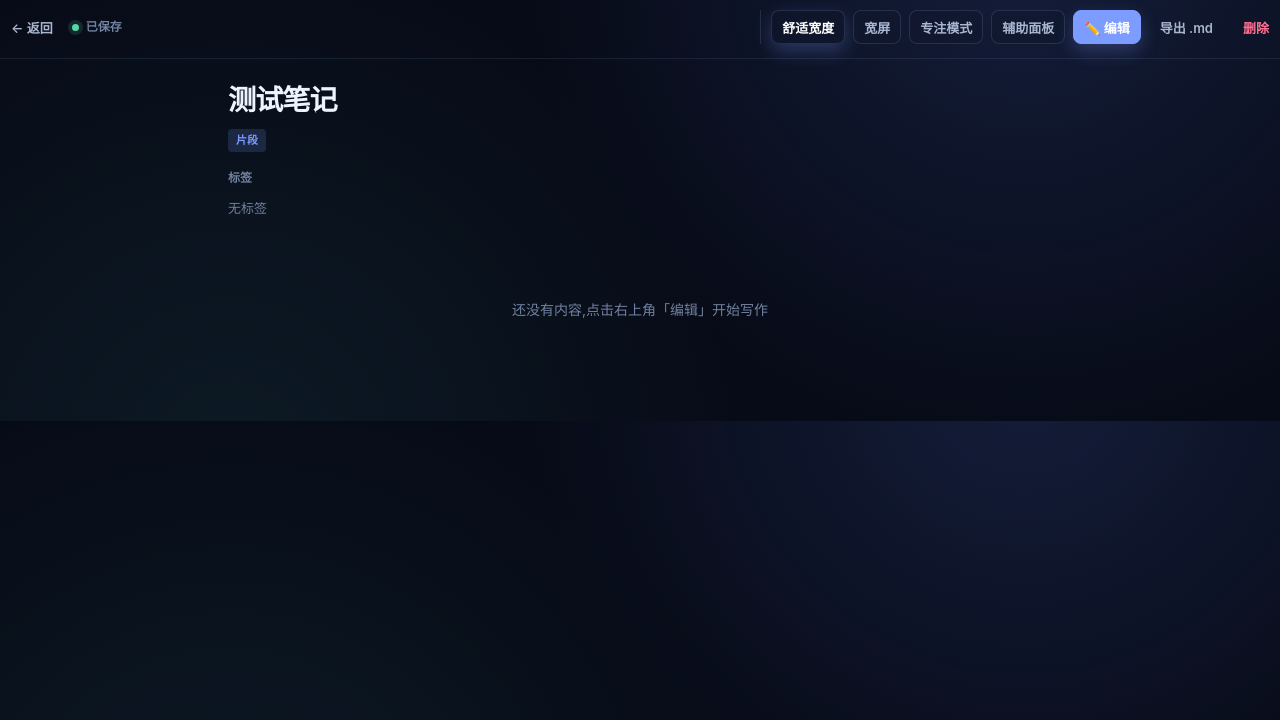
Test: EditorPage draft render boundary › resolves preview wiki links from the allNotes index without Dexie table reads
Click the button "辅助面板". click: [1028, 27]
box: [991, 10, 1065, 44]
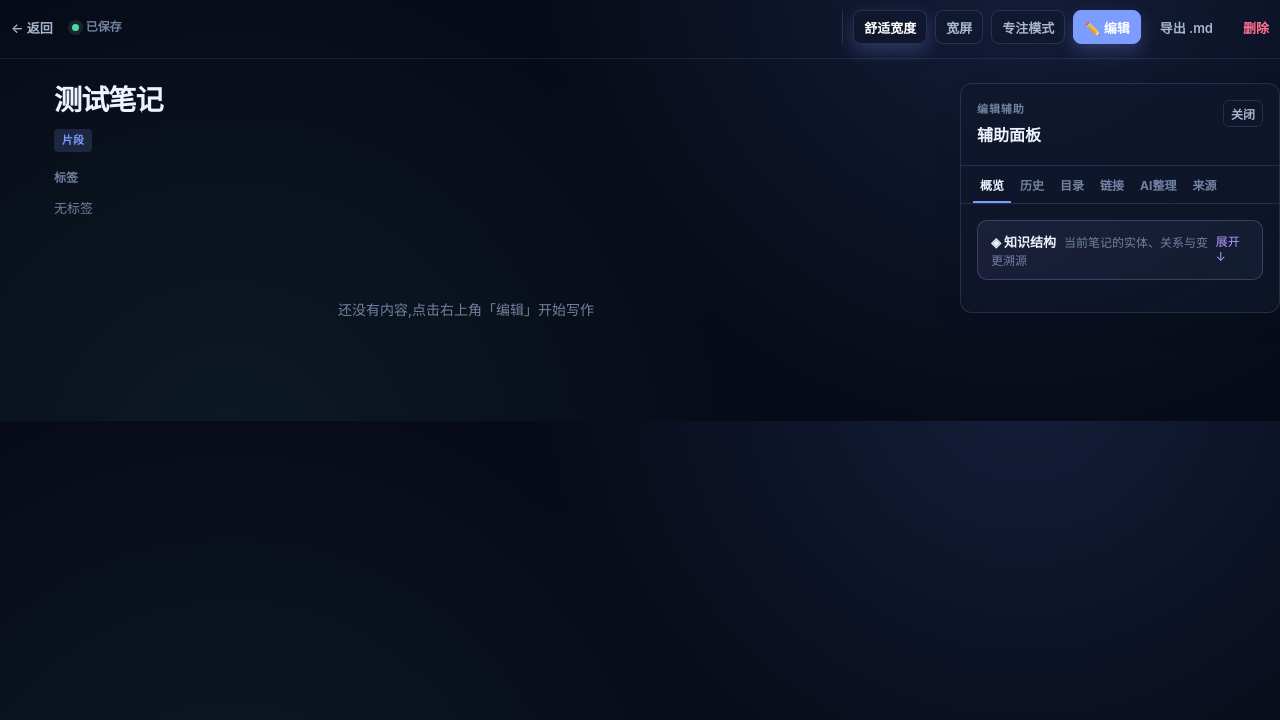
Click the tab "链接". click: [1112, 184]
box: [1093, 166, 1131, 203]
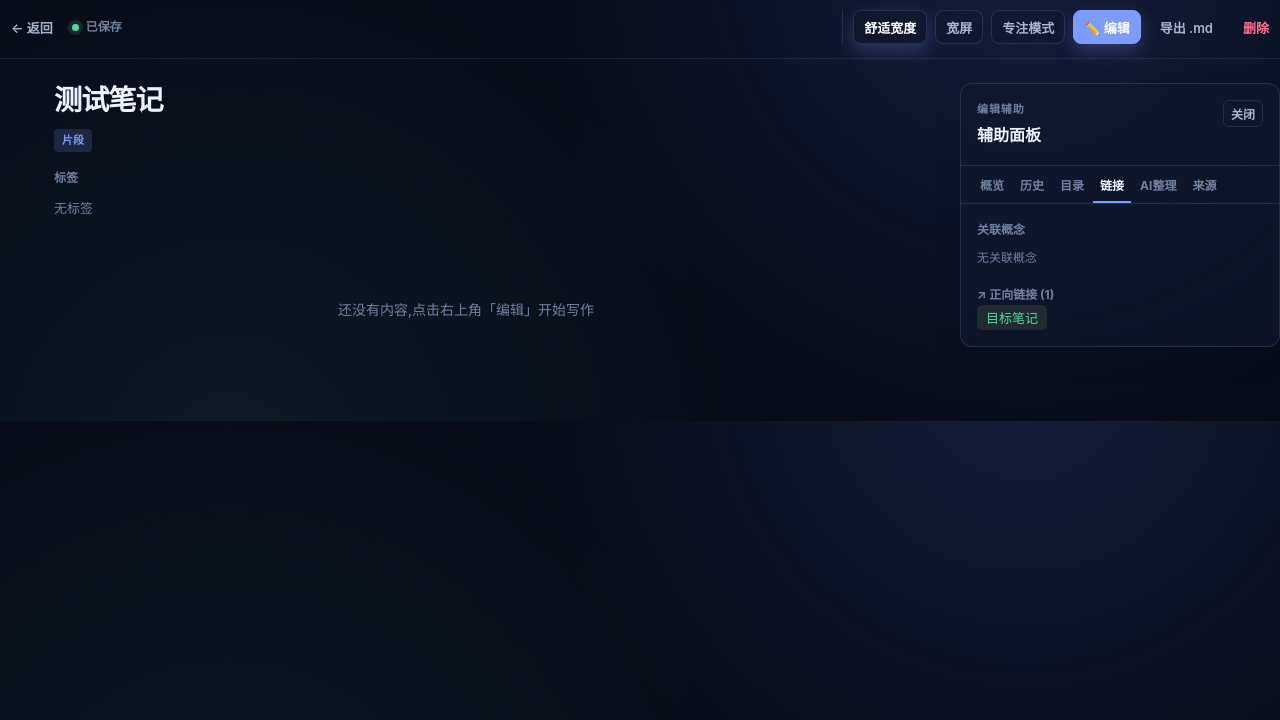
expect the text "目标笔记" is shown: met, box [977, 305, 1047, 330]
